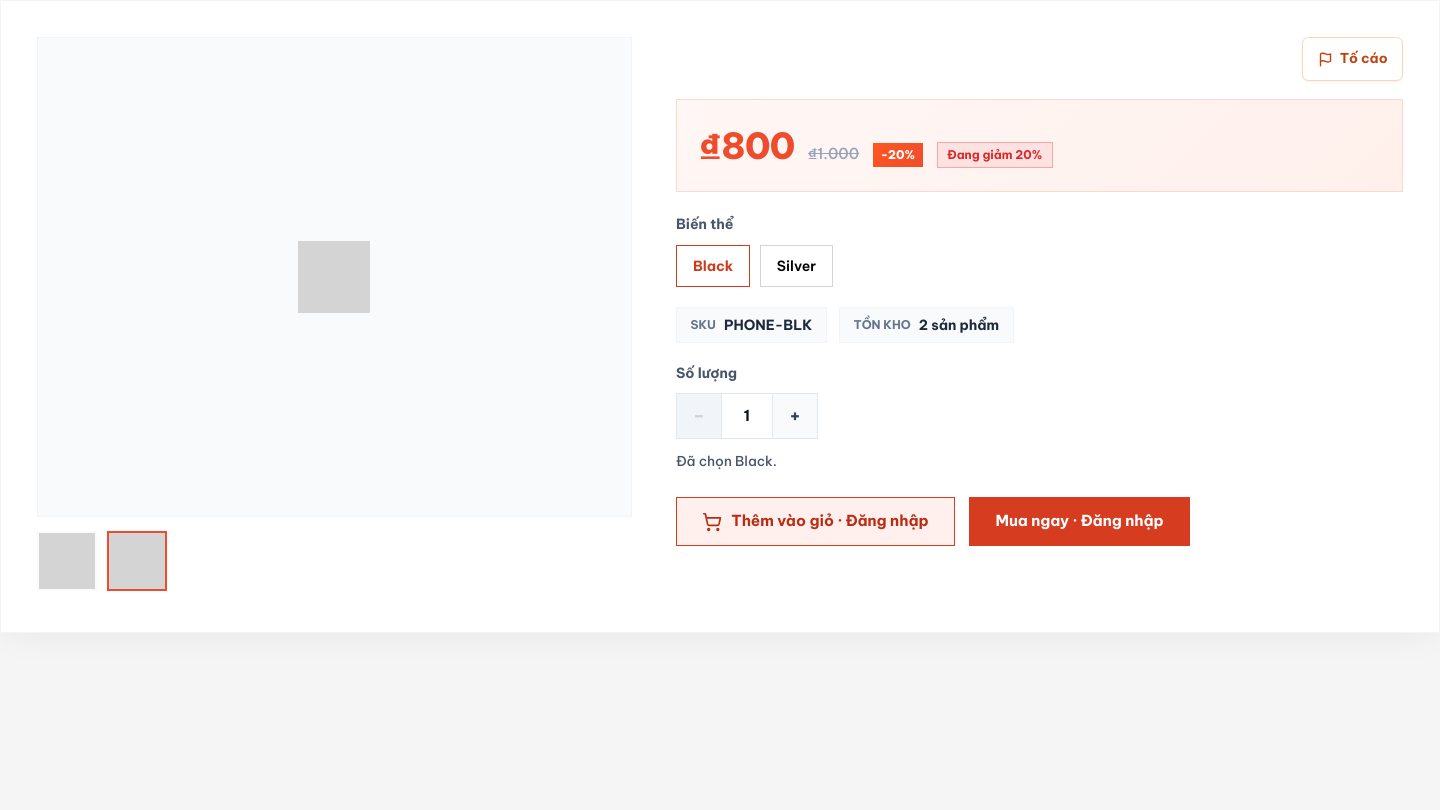
Test: product detail interactions › renders an active scheduled price and the stored-price fallback after variant selection
Check: the text "₫800" is shown, box [698,119,794,173]
Click the button "Silver".
click(797, 266)  # box [760,245,833,287]
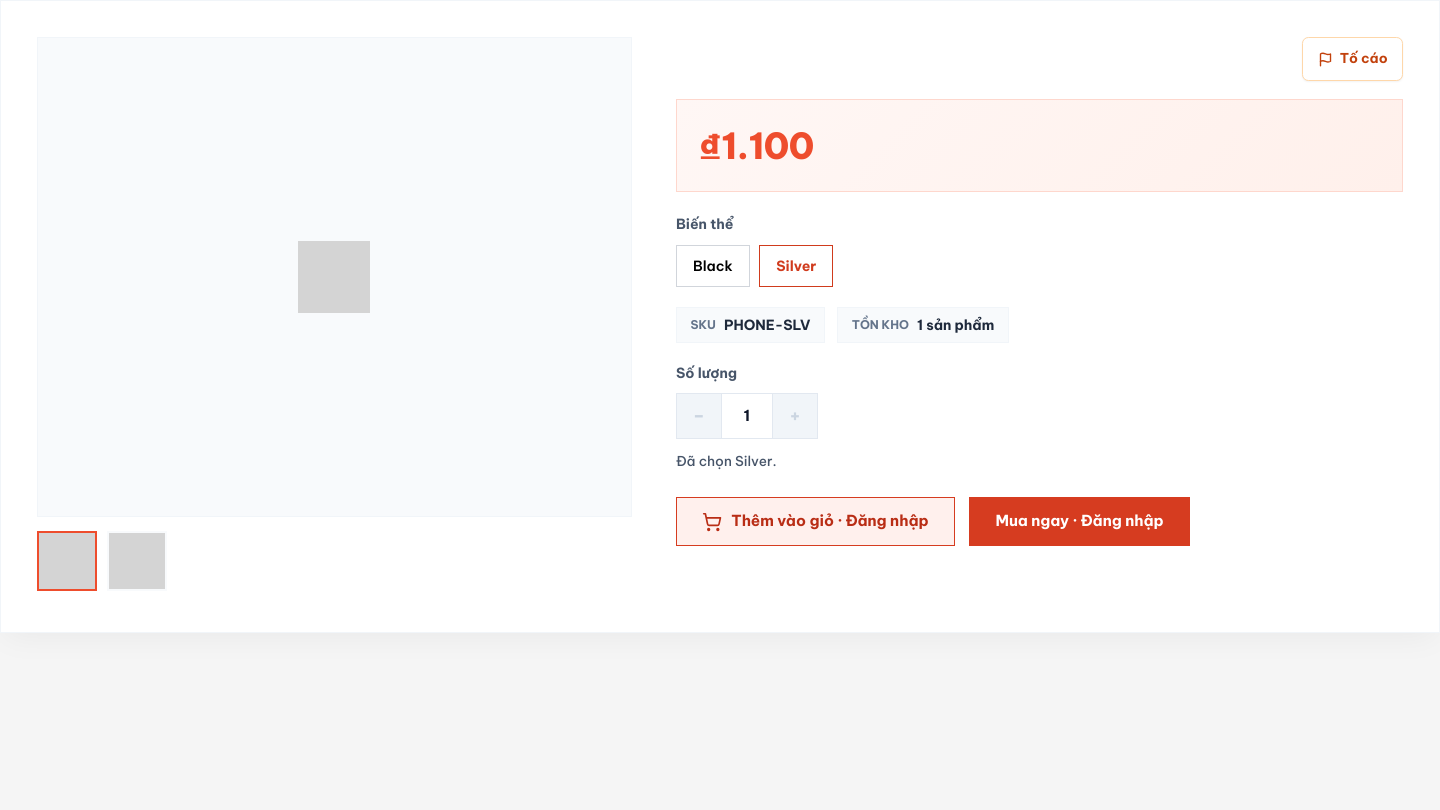
Check: the text "₫1.100" is shown, box [698,119,813,173]
